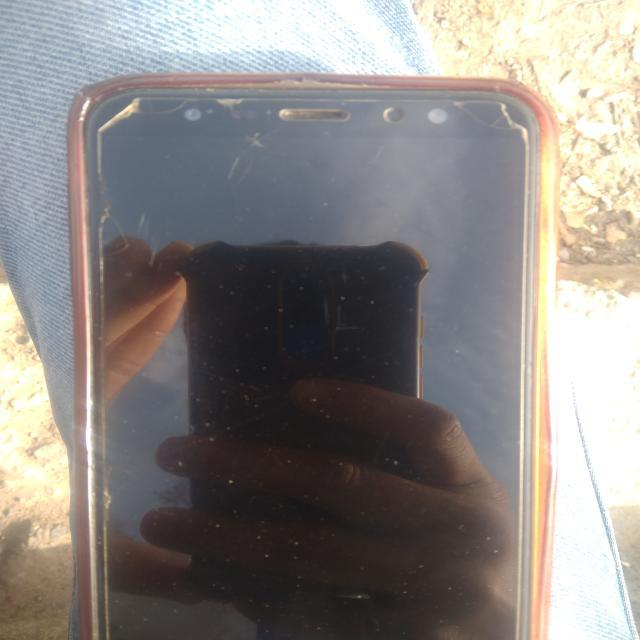screen crack: (57, 67, 569, 192)
